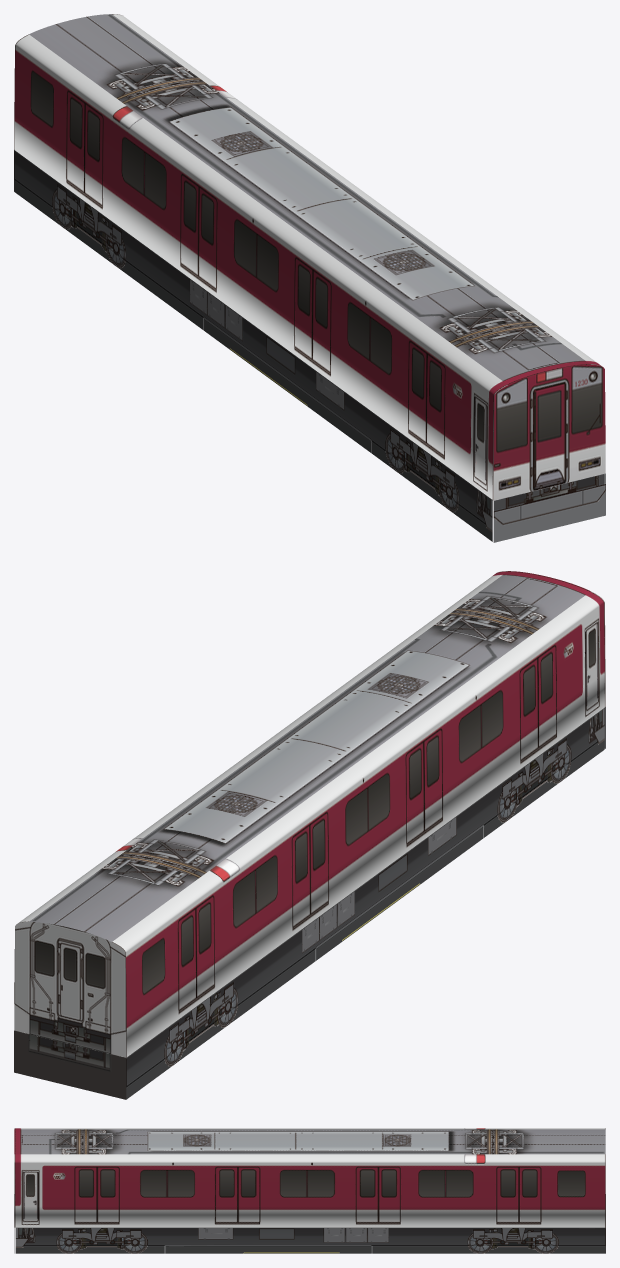
The model's file is car1.glb.
The picture shows the model from 3 angles, top to bottom: view 1: azimuth 30°, elevation 25°; view 2: azimuth 150°, elevation 25°; view 3: azimuth 270°, elevation 25°; orthographic projection. The views are drawn at different scales.
Visible parts, largest first — view 1: kintetsu-1230-car1; view 2: kintetsu-1230-car1; view 3: kintetsu-1230-car1.
Boxes of the visible parts, left/top/right/bottom form: kintetsu-1230-car1: left=14, top=14, right=605, bottom=542; kintetsu-1230-car1: left=14, top=571, right=605, bottom=1099; kintetsu-1230-car1: left=14, top=1128, right=605, bottom=1253.
Bounding box in the file's own units: 2.8 × 3.77 × 20.75.
8 materials, 7 textured.
